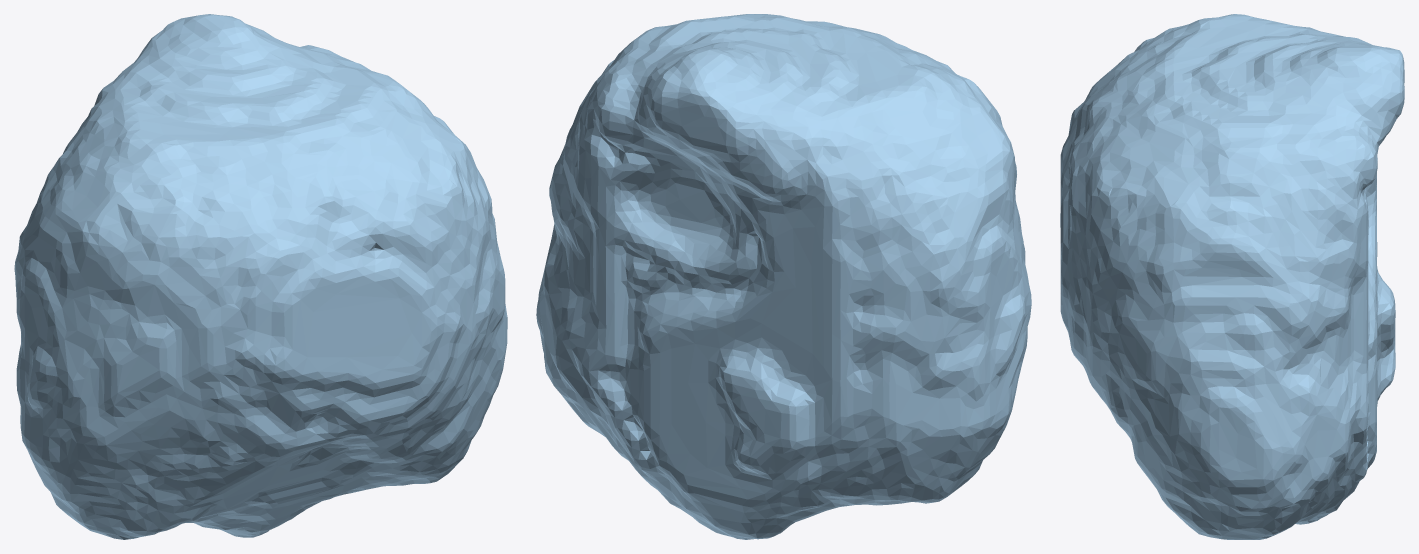
3 renders of one model, left to right at view 1: azimuth 30°, elevation 25°; view 2: azimuth 150°, elevation 25°; view 3: azimuth 270°, elevation 25°, orthographic. The views are drawn at different scales.
Visible parts, largest first — view 1: world; view 2: world; view 3: world.
Part boxes in pixels (bbox=[...]): world: bbox=[14, 14, 507, 539]; world: bbox=[536, 14, 1031, 539]; world: bbox=[1060, 14, 1404, 539].
Size of the model in its own units: 0.8794 by 0.8944 by 0.5972.
